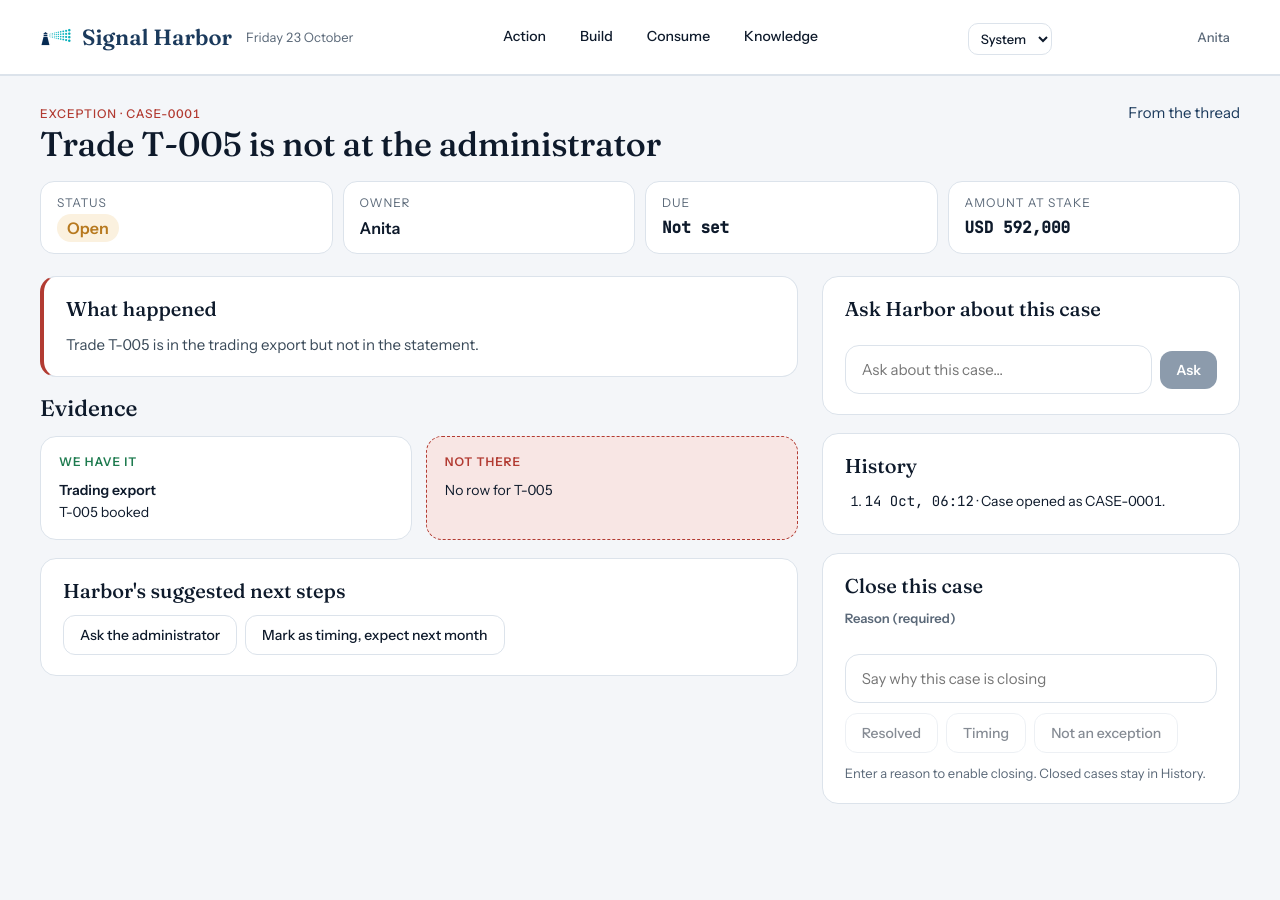
Test: the talk box asks Harbor and shows the answer
The width and height of the screenshot is (1280, 900).
Type "Is this timing?" into the field with placeholder "Ask about this case…" at (998, 370), box [845,345,1152,394]
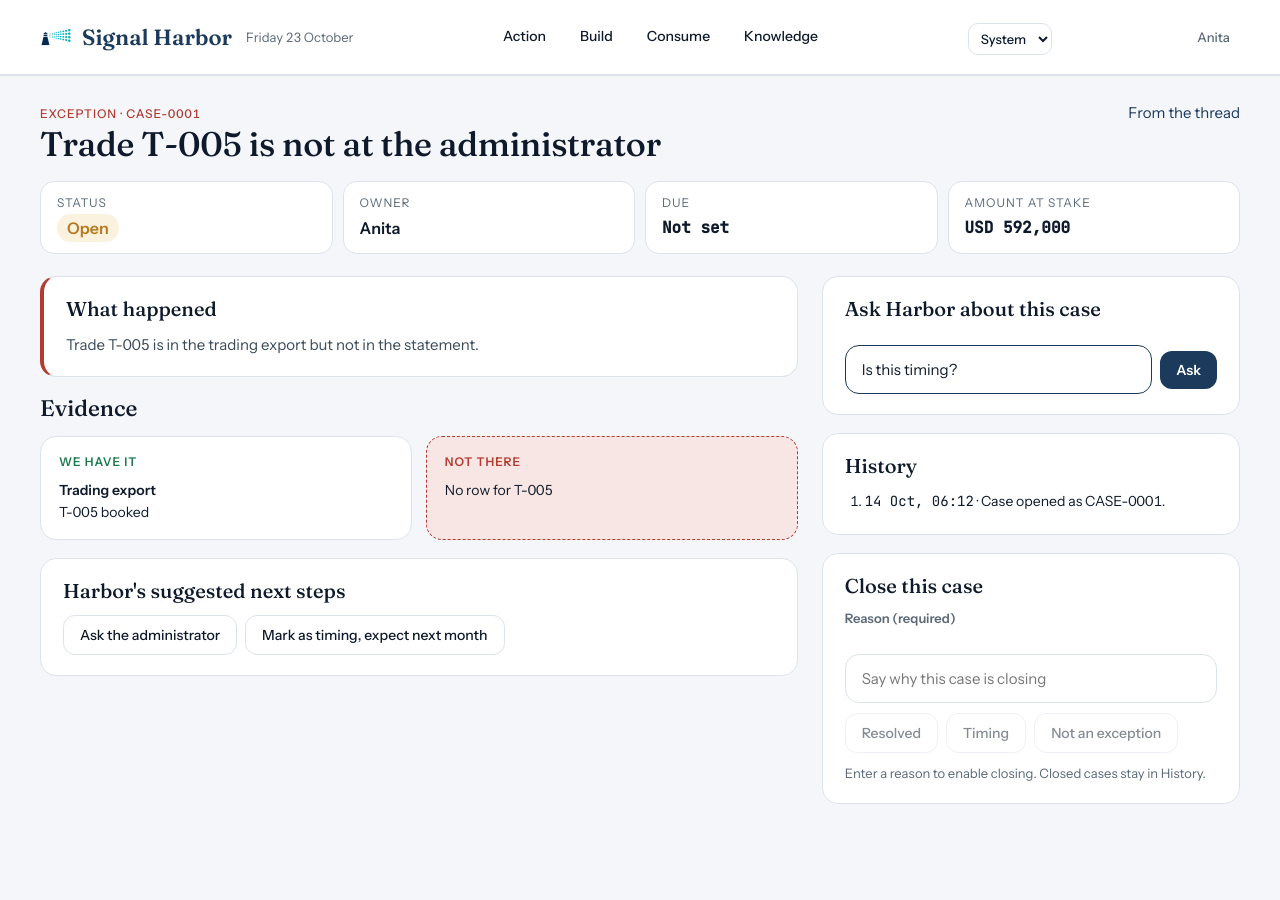
Click the button "Ask" at (1189, 370), box [1160,351,1217,389]
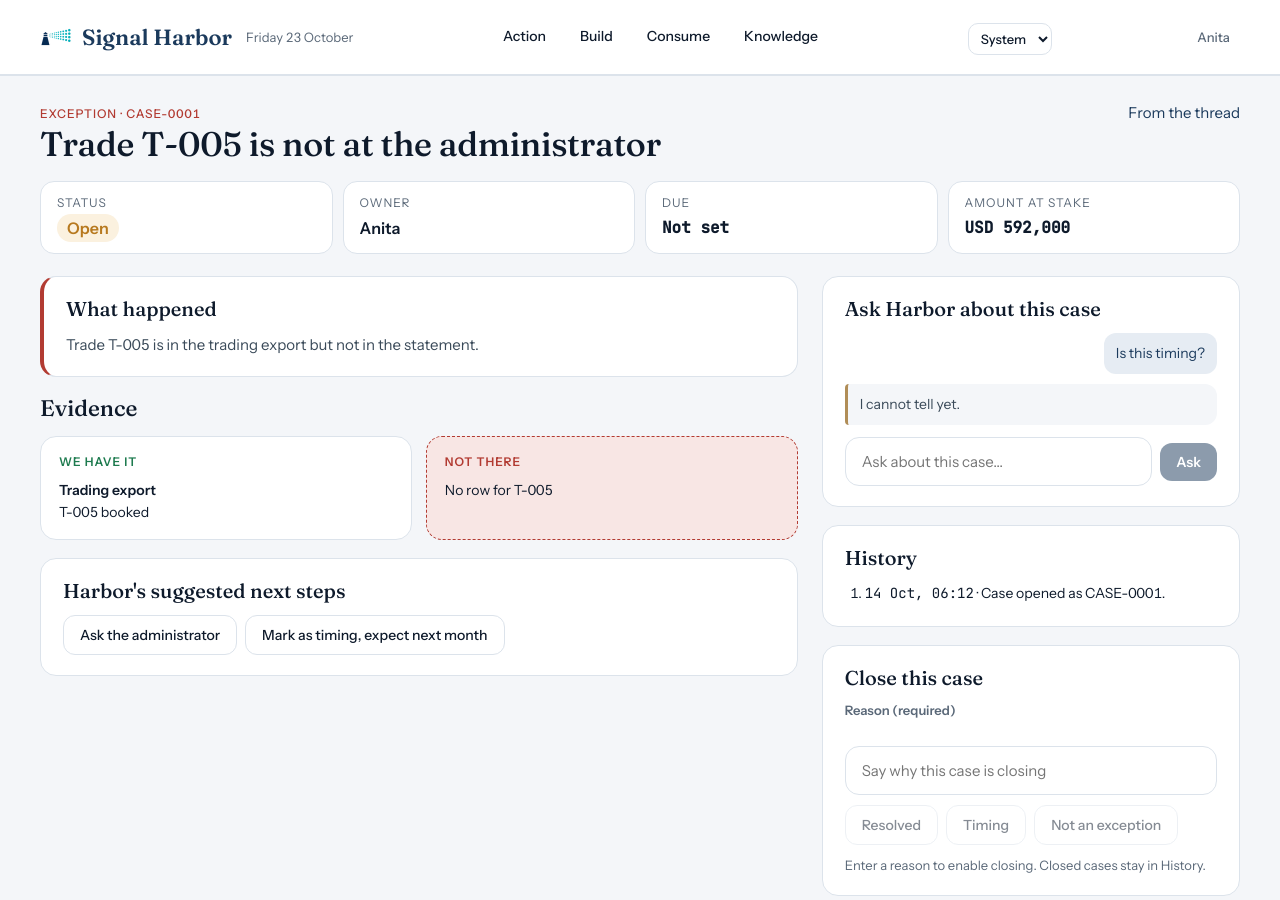
expect the text "I cannot tell yet." is shown: met, box [845,384,1217,425]
